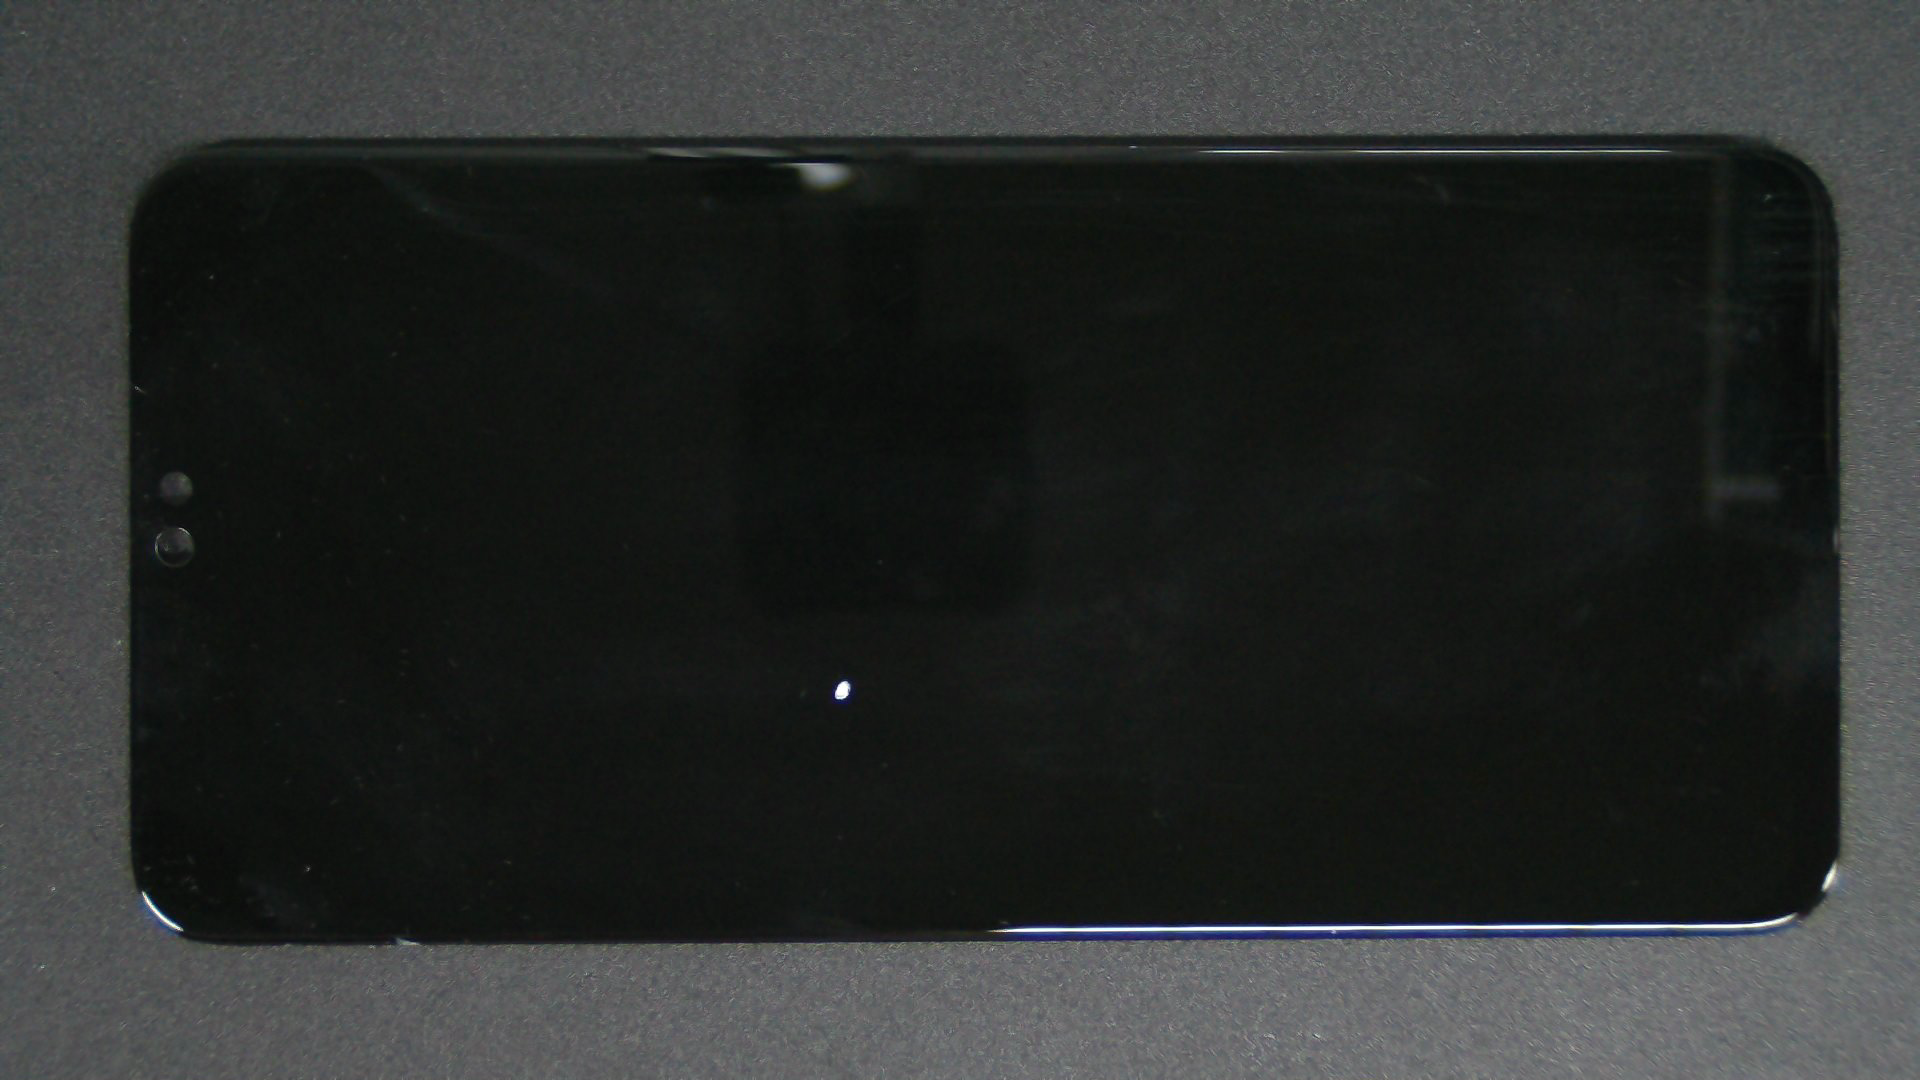defect: (833, 680, 851, 700)
